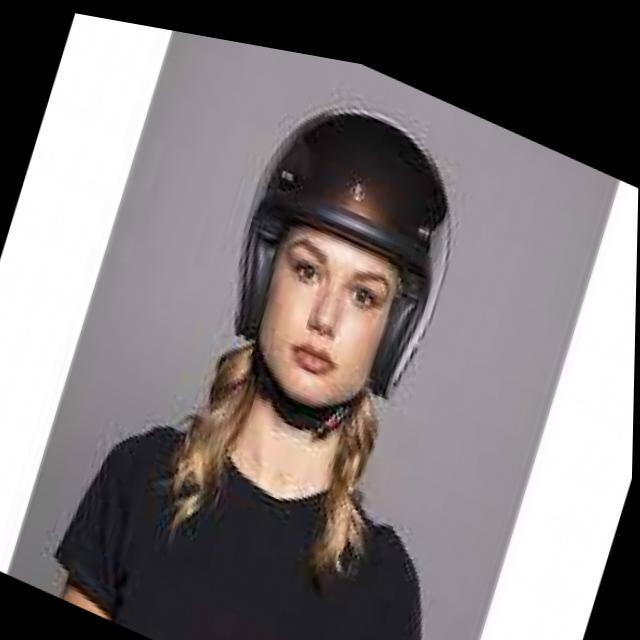Helmet: (213, 103, 458, 426)
